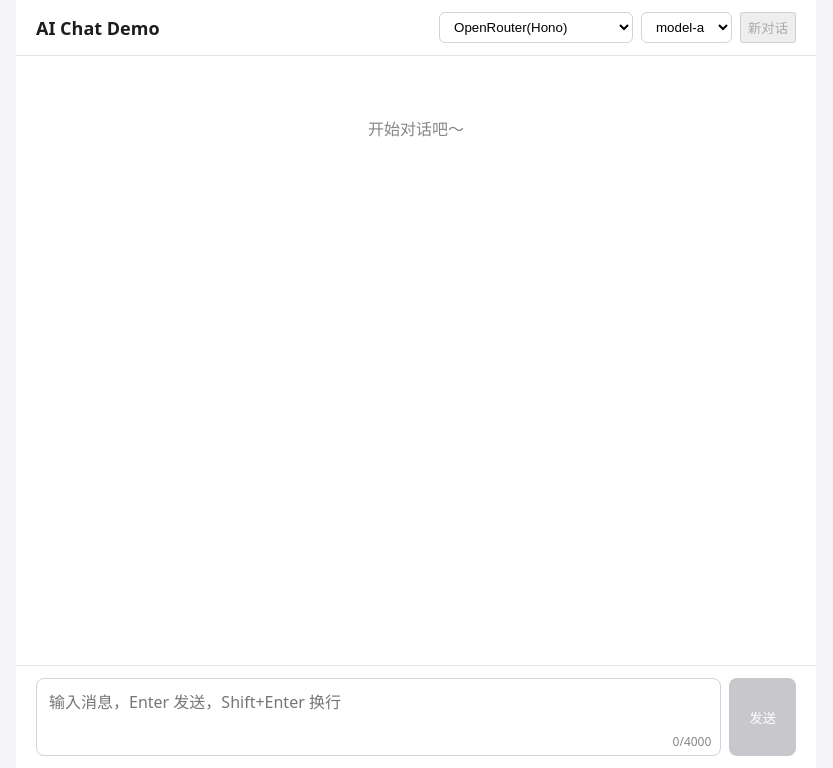
App › 点击"新对话"清空消息
The image size is (833, 768).
Type "讲个故事" into the text box.
click(379, 717); type("讲个故事")  # box [36, 678, 721, 756]
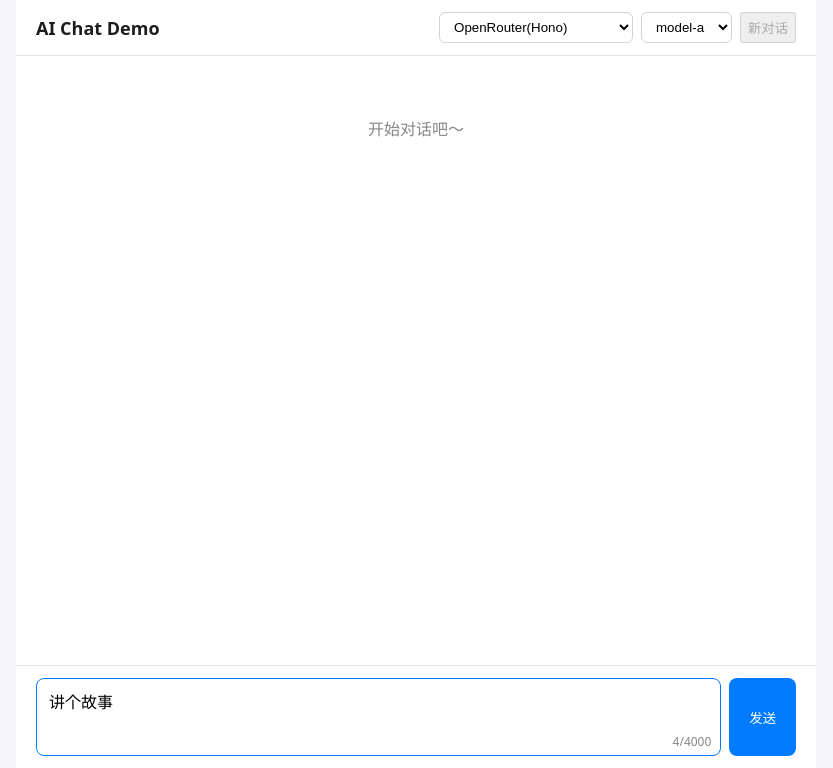
Click the button "发送".
click(763, 717)  # box [729, 678, 796, 756]
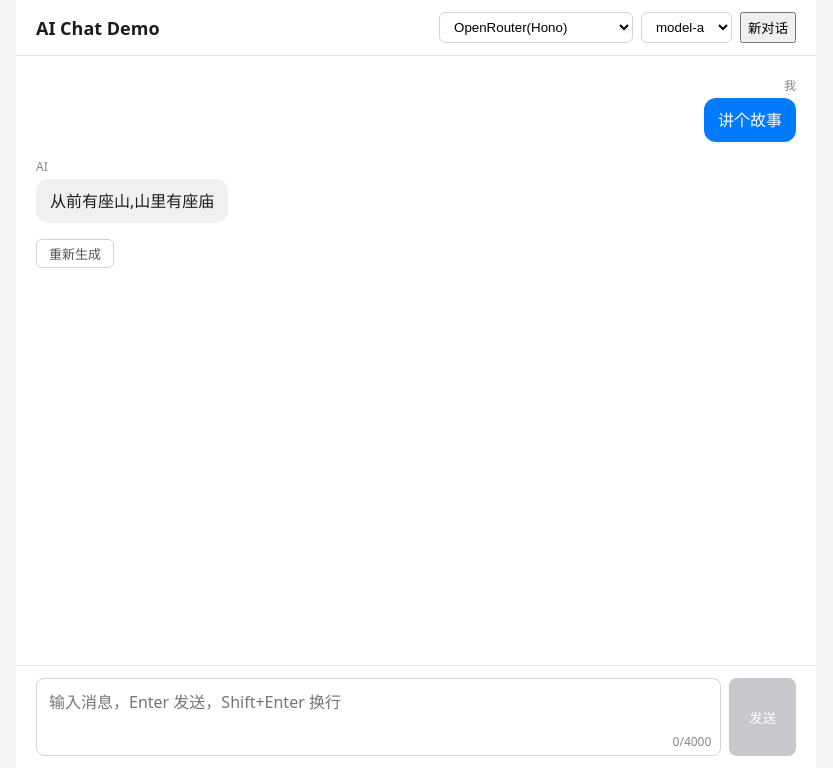
expect the text "从前有座山,山里有座庙" is shown: met, box [36, 179, 228, 223]
Click the button "新对话".
click(768, 28)  # box [740, 12, 796, 43]
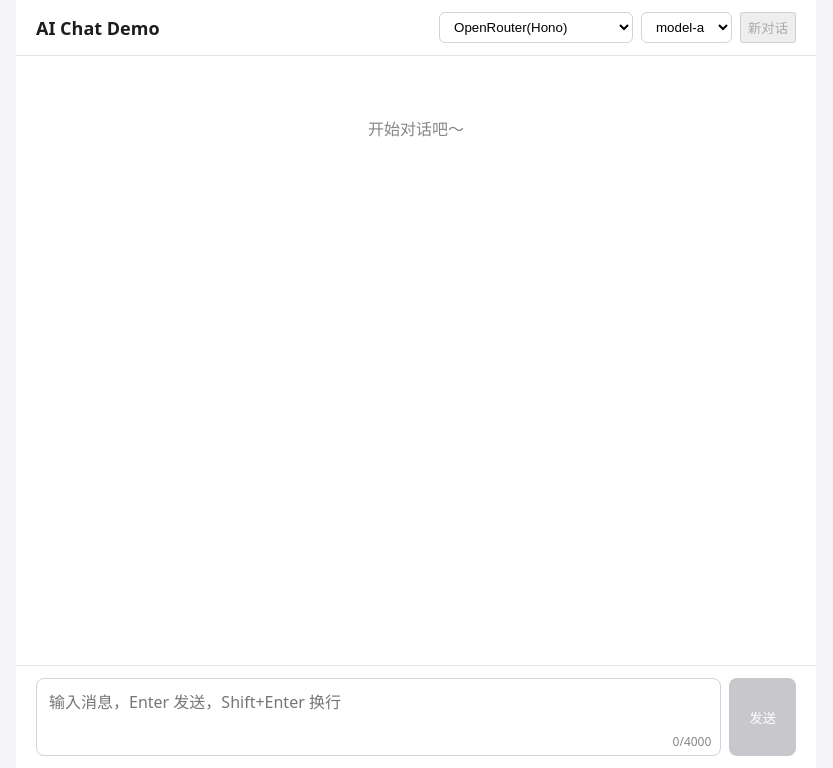
expect the text "开始对话吧～" is shown: met, box [368, 118, 464, 140]
